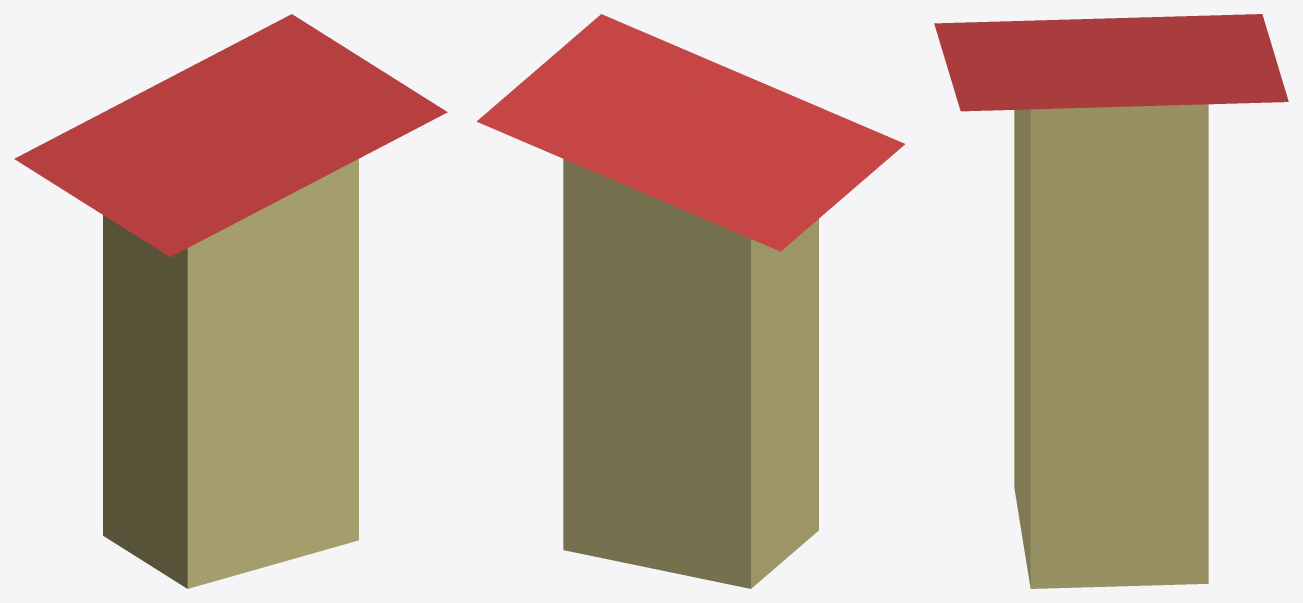
3 views of the same model, side by side, from view 1: azimuth 30°, elevation 25°; view 2: azimuth 150°, elevation 25°; view 3: azimuth 270°, elevation 25° (orthographic). The views are drawn at different scales.
Bounding box in the file's own units: 4.13 × 3.54 × 5.63.
